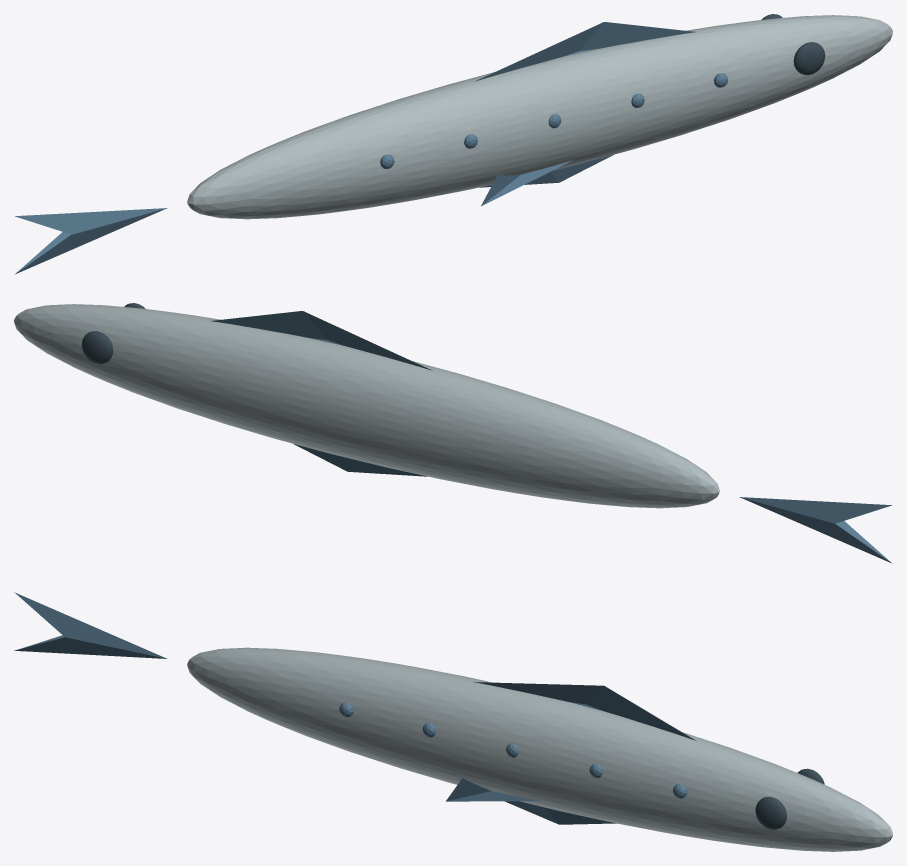
File: Ikan_Tenggiri.glb
3 renders of one model, top to bottom at view 1: azimuth 30°, elevation 25°; view 2: azimuth 150°, elevation 25°; view 3: azimuth 330°, elevation 25°, orthographic.
Parts seen in each view (by area): view 1: Part_00, Part_01, Part_02, Part_04, Part_05, Part_03; view 2: Part_00, Part_01, Part_02, Part_03, Part_06; view 3: Part_00, Part_01, Part_02, Part_04, Part_03, Part_05.
Part boxes in pixels (x1,y1,x2,y2): Part_00: (187,15,892,219); Part_01: (14,208,167,274); Part_02: (474,22,695,81); Part_04: (481,160,573,206); Part_05: (793,42,825,74); Part_03: (479,155,612,187); Part_00: (14,304,719,508); Part_01: (739,497,892,563); Part_02: (211,311,432,370); Part_03: (294,444,427,476); Part_06: (81,331,113,363); Part_00: (187,647,892,851); Part_01: (14,592,167,658); Part_02: (474,682,695,740); Part_04: (446,778,539,801); Part_03: (505,801,616,824); Part_05: (755,796,786,829).
Size of the model in its own units: 2.19 by 0.3575 by 0.2013.
